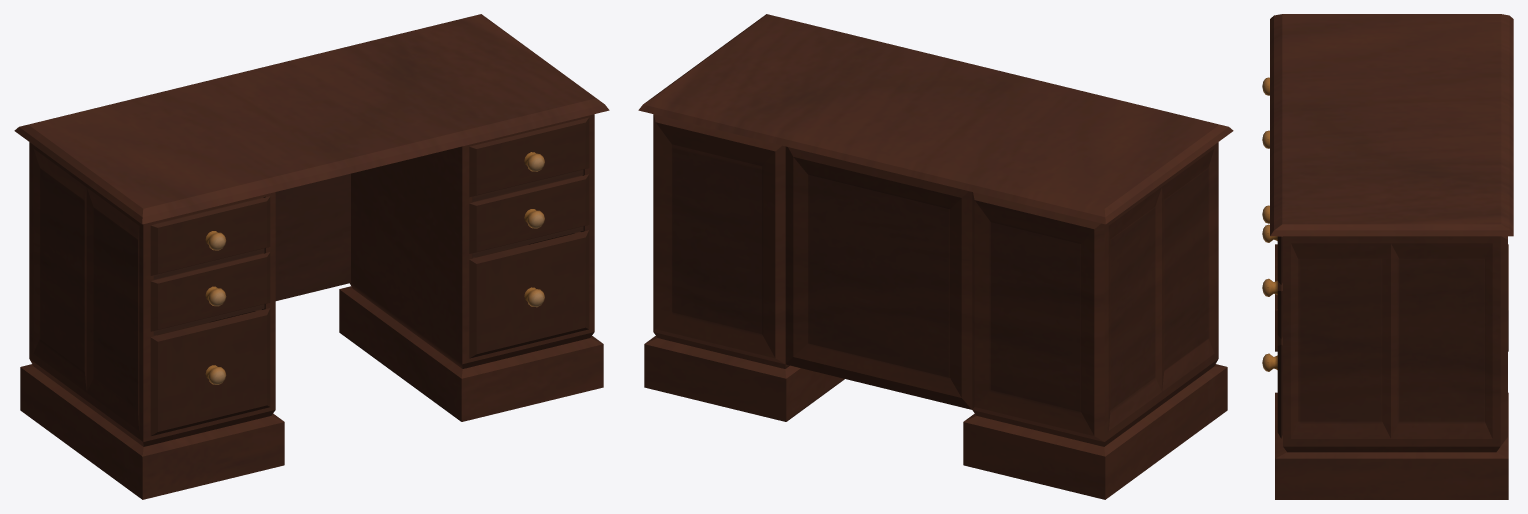
Rendered from DeskAsset.fbx.
3 views of the same model, side by side, from view 1: azimuth 30°, elevation 25°; view 2: azimuth 150°, elevation 25°; view 3: azimuth 270°, elevation 25° (orthographic). The views are drawn at different scales.
Parts seen in each view (by area): view 1: DeskBottom, DeskTop; view 2: DeskBottom, DeskTop; view 3: DeskBottom, DeskTop.
Part boxes in pixels (<box>): DeskBottom: <box>20,114,603,499</box>; DeskTop: <box>14,14,609,224</box>; DeskBottom: <box>644,114,1227,499</box>; DeskTop: <box>638,14,1233,224</box>; DeskBottom: <box>1262,77,1508,499</box>; DeskTop: <box>1270,14,1513,236</box>.
Bounding box in the file's own units: 8.8 × 5.17 × 4.3.
